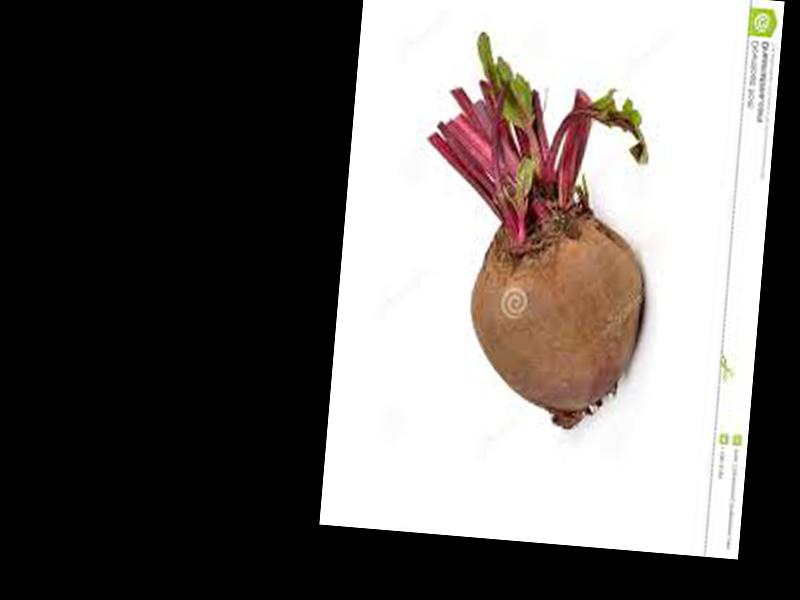Beet: (407, 31, 661, 434)
